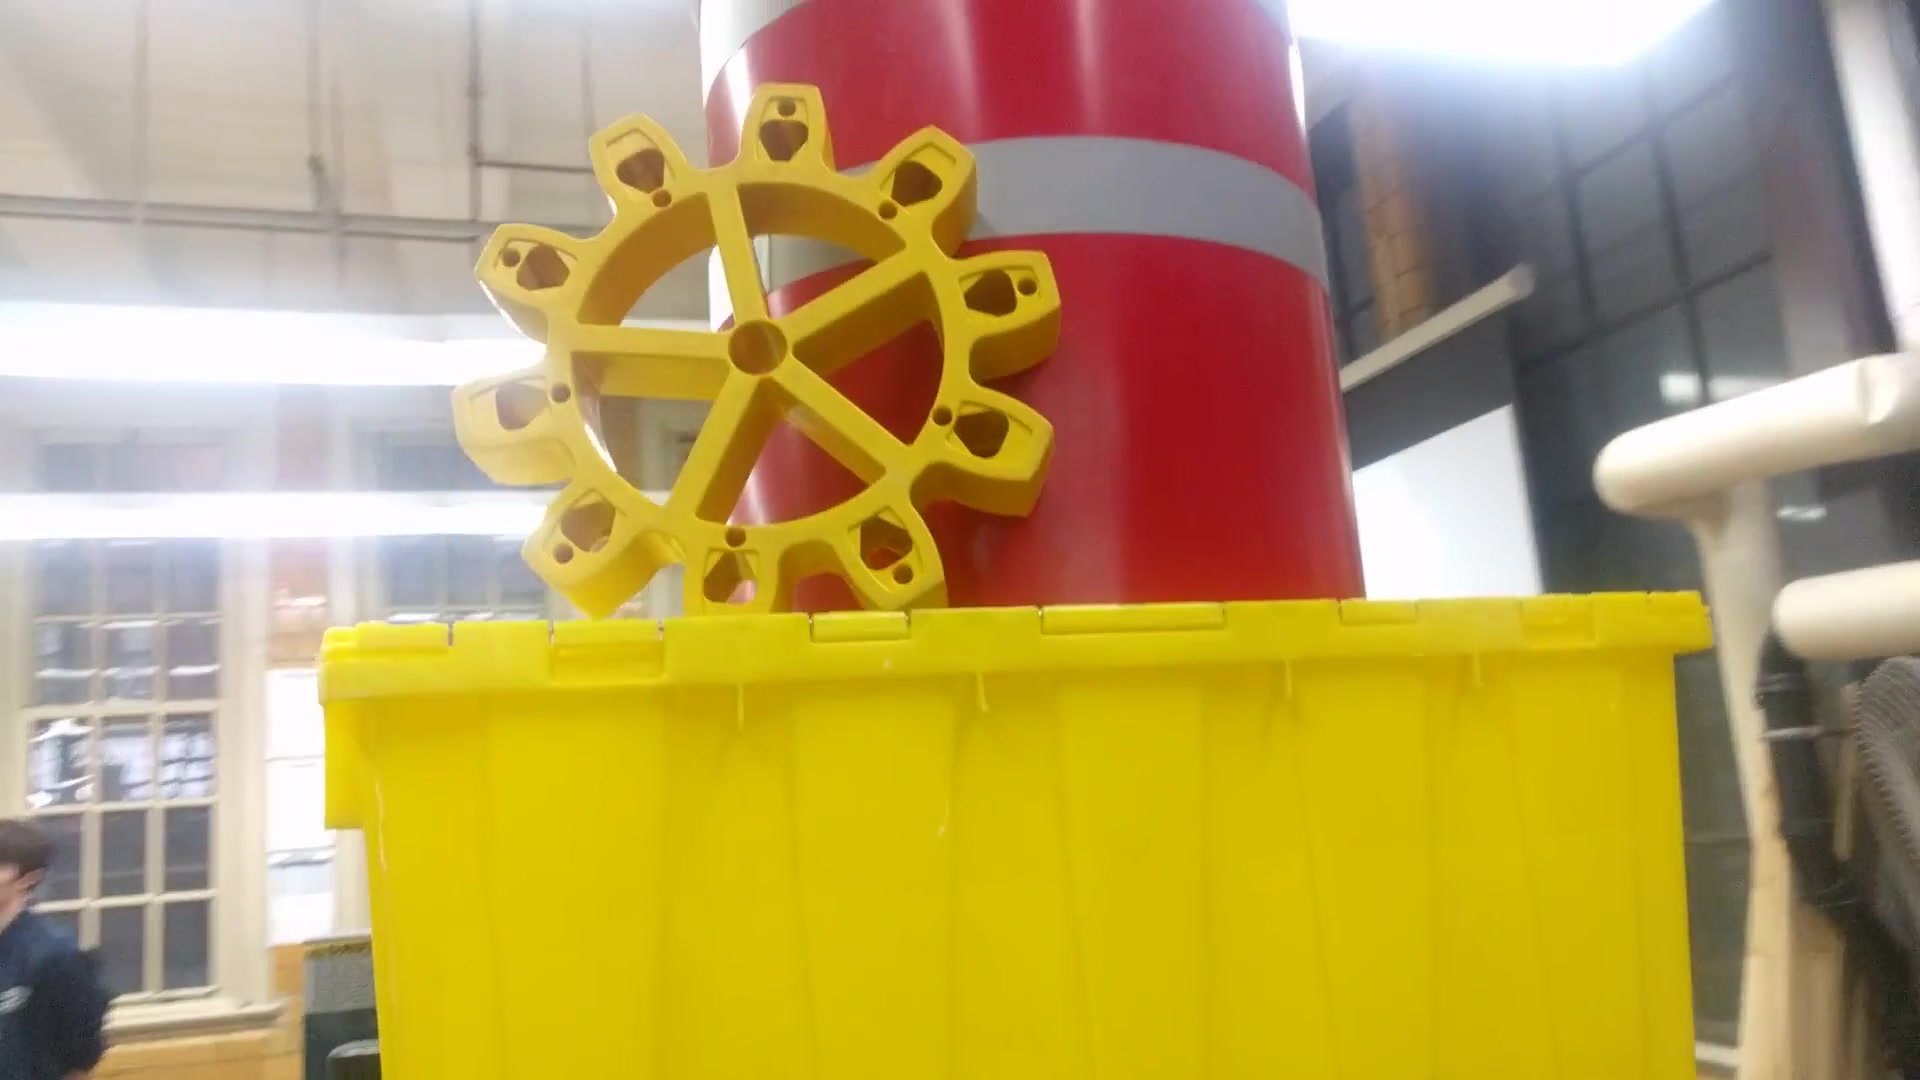gear: (451, 75, 1064, 622)
